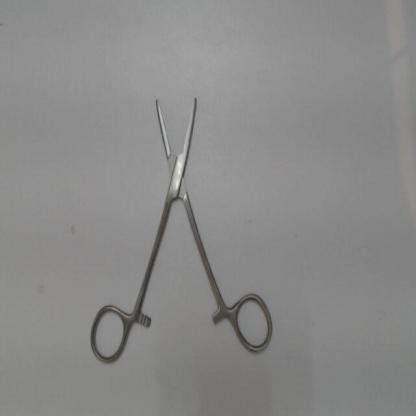Mayo Needle Holder: (86, 80, 276, 366)
